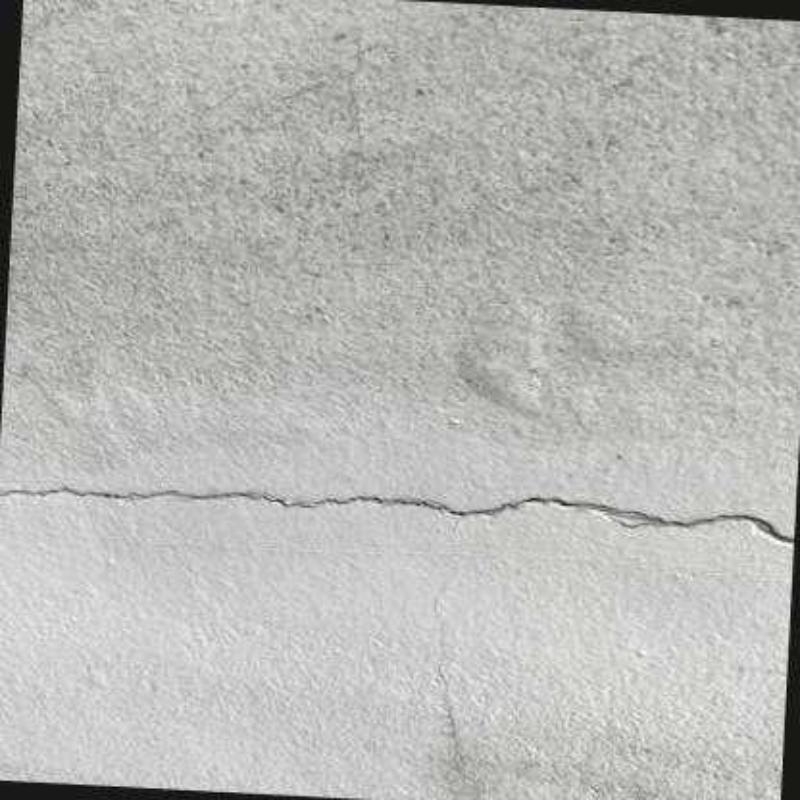pothole: (0, 478, 794, 549)
